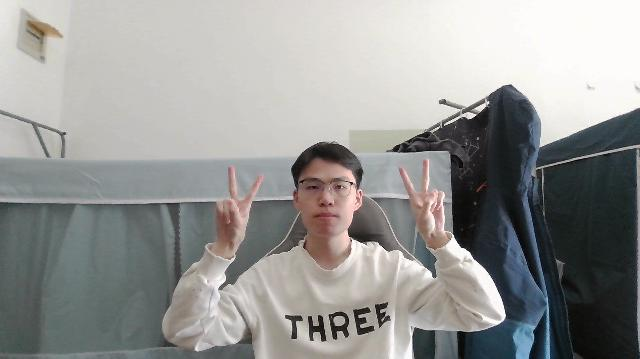two: (214, 164, 265, 243), (396, 158, 446, 234)
